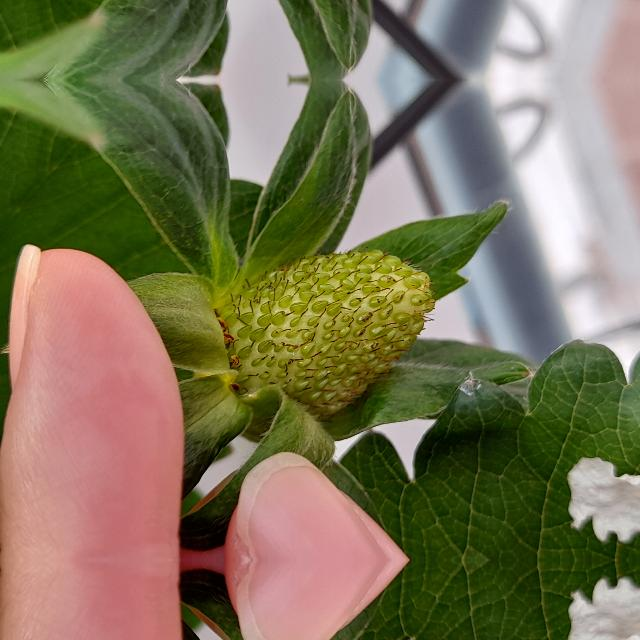Health_25: (214, 250, 434, 418)
